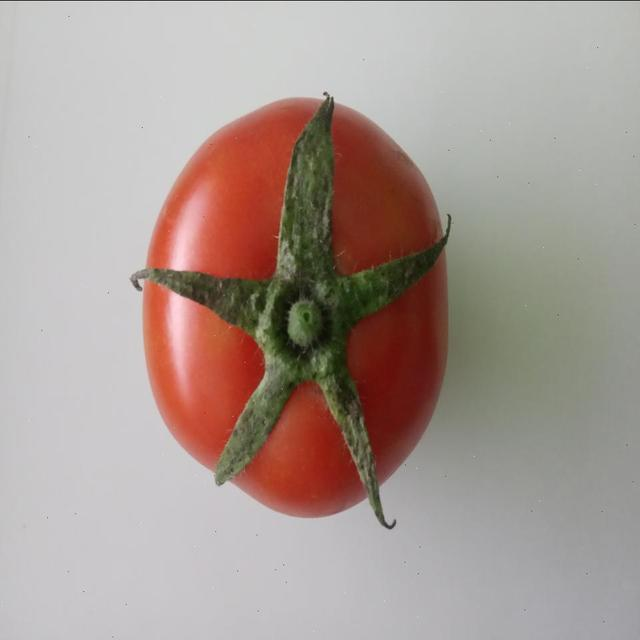Healthy Fruit: (83, 61, 303, 352)
